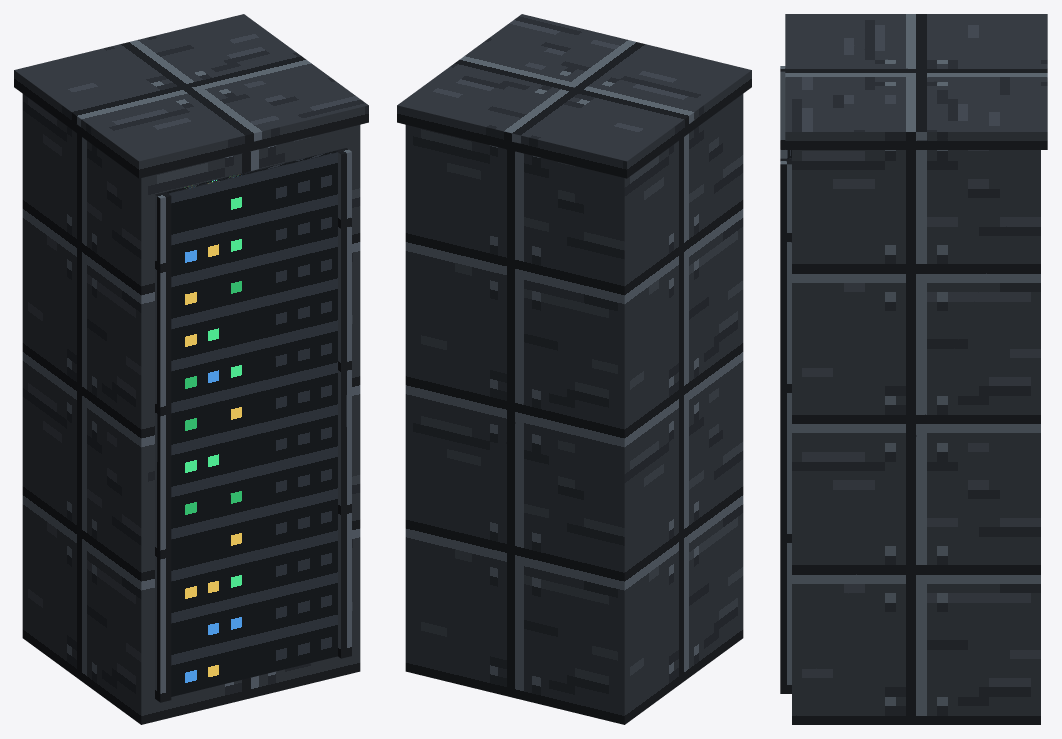
The model's file is server_rack.glb.
The picture shows the model from 3 angles, left to right: view 1: azimuth 30°, elevation 25°; view 2: azimuth 150°, elevation 25°; view 3: azimuth 270°, elevation 25°; orthographic projection. The views are drawn at different scales.
Visible parts, largest first — view 1: server_rack; view 2: server_rack; view 3: server_rack.
Boxes of the visible parts, <box> form: server_rack: <box>14,14,368,724</box>; server_rack: <box>397,14,751,724</box>; server_rack: <box>780,14,1047,724</box>.
Bounding box in the file's own units: 0.8485 × 2 × 0.8131.
2 materials, 2 textured.
